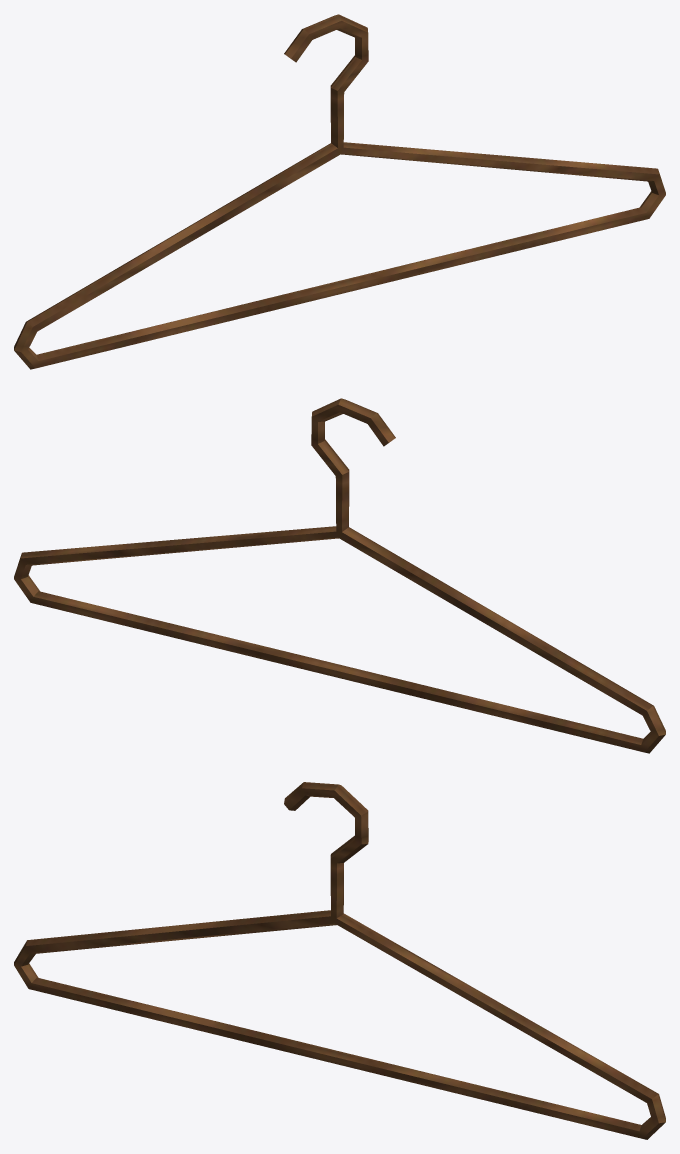
File: CoatHanger.fbx
The picture shows the model from 3 angles, top to bottom: view 1: azimuth 30°, elevation 25°; view 2: azimuth 150°, elevation 25°; view 3: azimuth 330°, elevation 25°; orthographic projection.
Parts seen in each view (by area): view 1: CoatHanger; view 2: CoatHanger; view 3: CoatHanger.
Part boxes in pixels (bbox=[...]): CoatHanger: bbox=[14, 14, 665, 369]; CoatHanger: bbox=[14, 398, 665, 753]; CoatHanger: bbox=[14, 782, 665, 1139].
Size of the model in its own units: 0.4775 by 0.1961 by 0.00897.
Materials: 1 (1 with a texture image).
